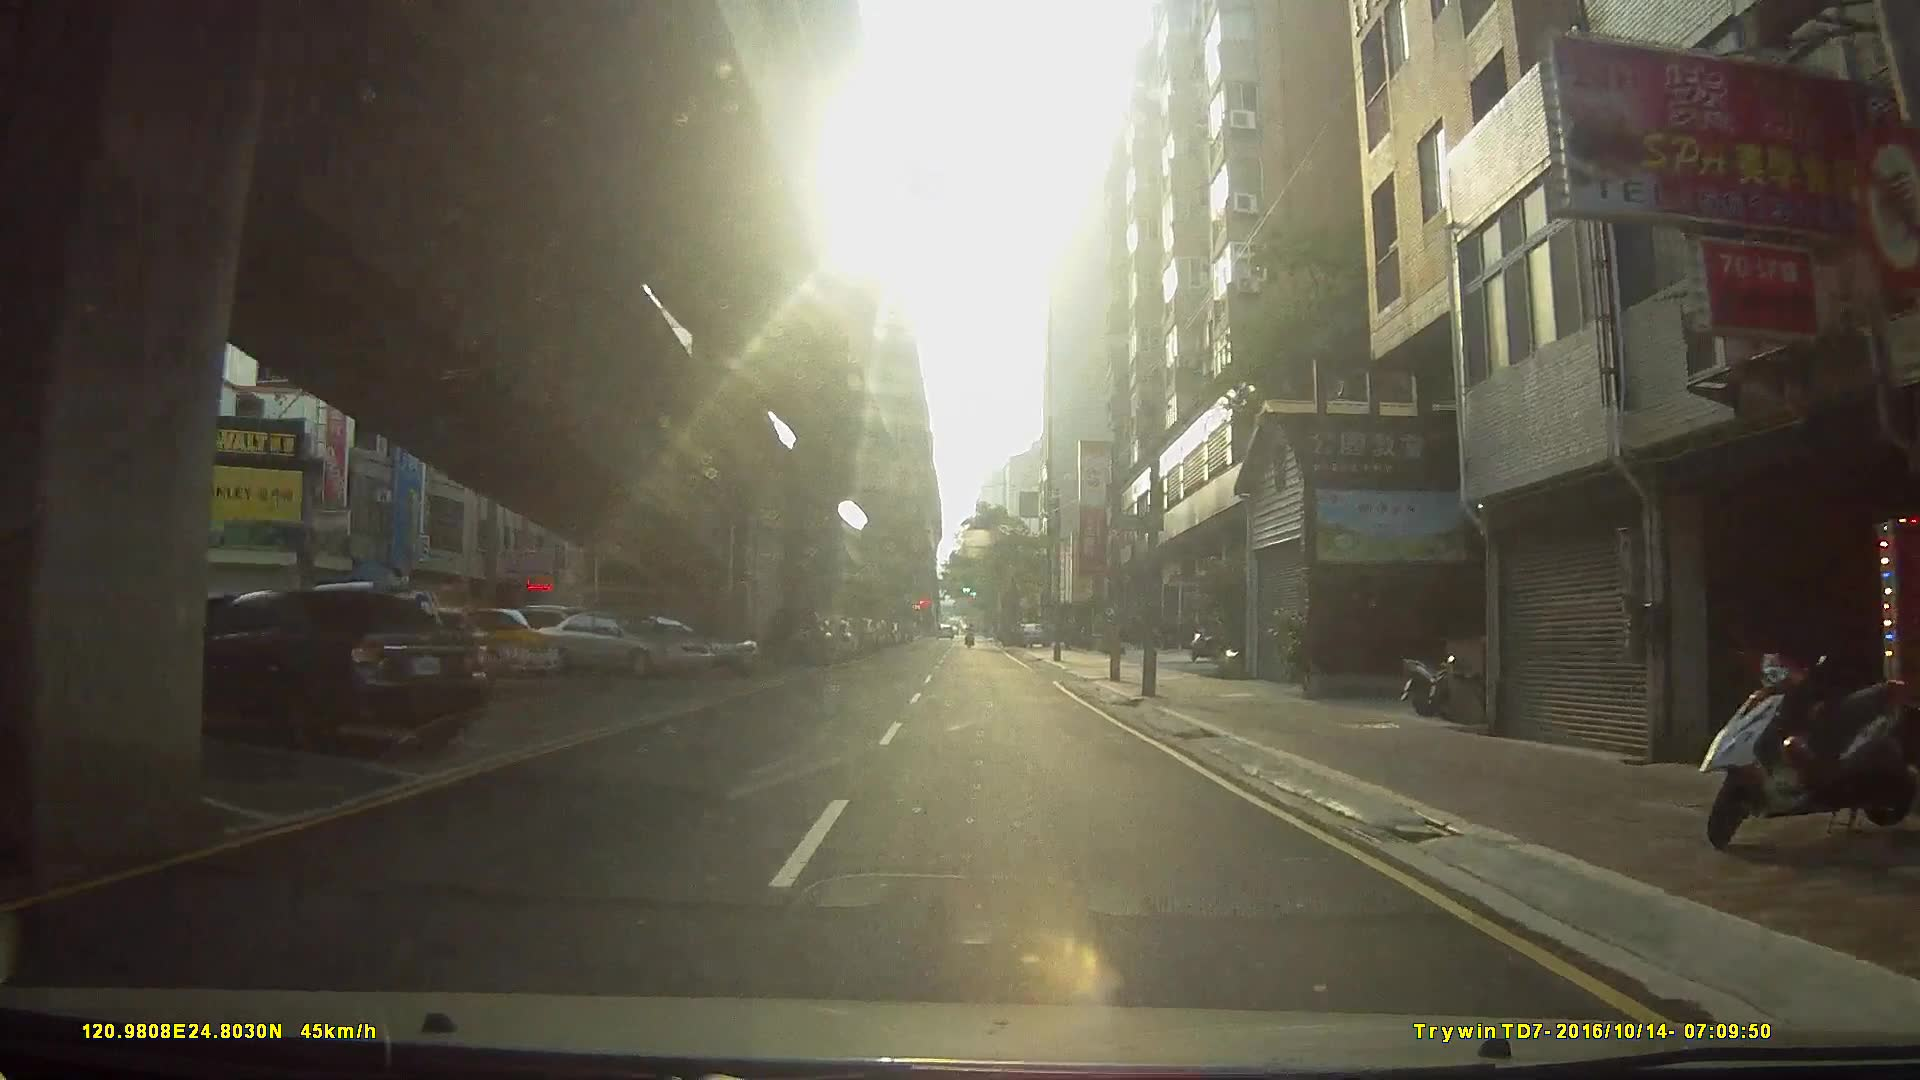vehicle: (174, 588, 487, 756), (527, 604, 712, 675), (593, 607, 760, 676), (429, 603, 560, 674), (761, 600, 835, 665)
